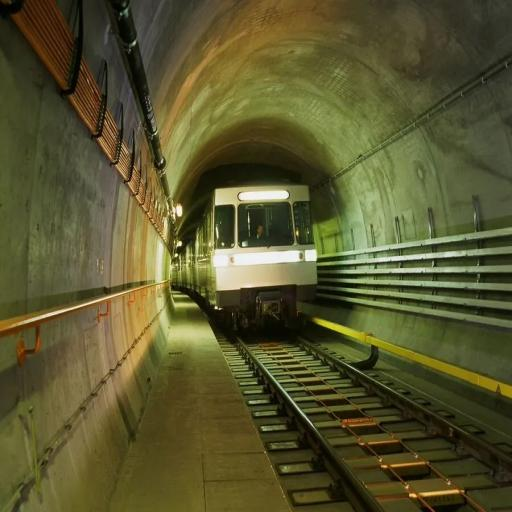Silberpfeil: (170, 175, 323, 314)
